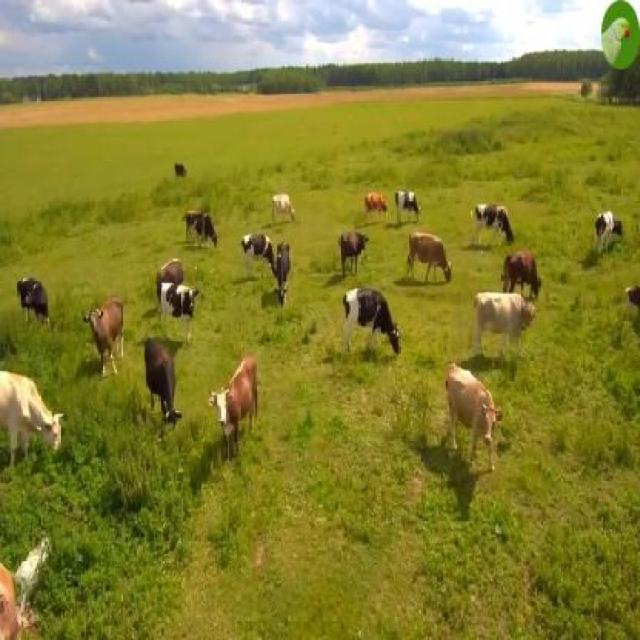Cow: (0, 364, 63, 476), (448, 363, 500, 475), (342, 291, 400, 374), (475, 292, 537, 368)
